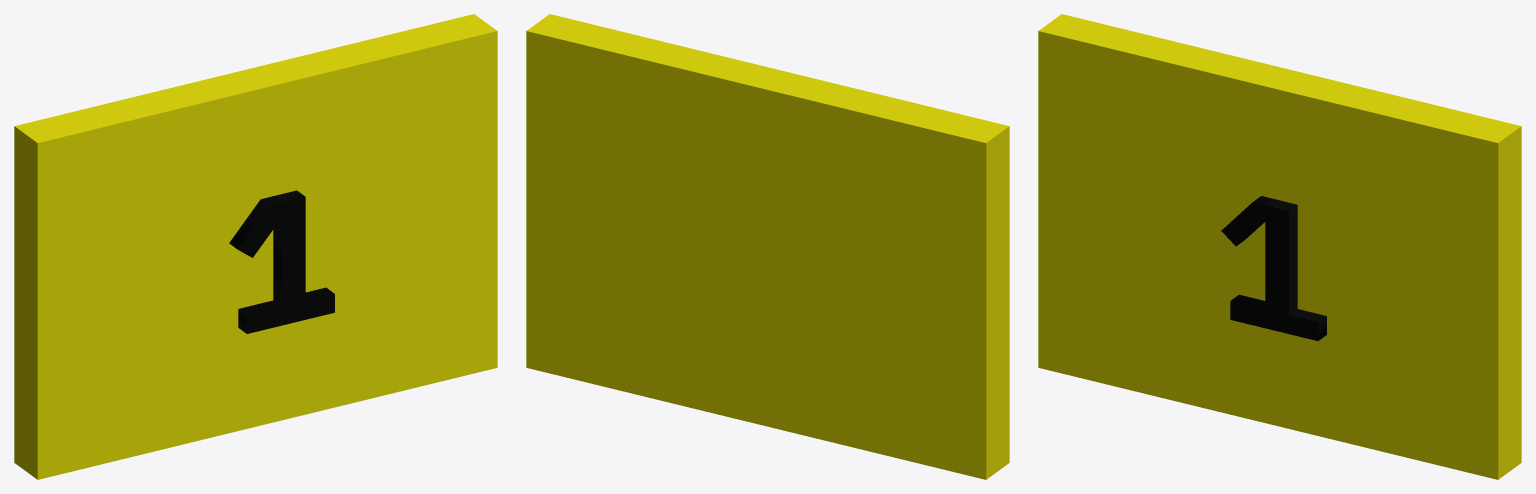
Rendered from tagyell1_2.glb.
3 views of the same model, side by side, from view 1: azimuth 30°, elevation 25°; view 2: azimuth 150°, elevation 25°; view 3: azimuth 330°, elevation 25° (orthographic).
Parts seen in each view (by area): view 1: Plane.022, Text.022; view 2: Plane.022; view 3: Plane.022, Text.022.
Boxes of the visible parts, bbox=[...] form: Plane.022: bbox=[14, 14, 497, 479]; Text.022: bbox=[229, 190, 334, 333]; Plane.022: bbox=[526, 14, 1009, 479]; Plane.022: bbox=[1038, 14, 1521, 479]; Text.022: bbox=[1221, 196, 1326, 340].
Bounding box in the file's own units: 0.2 × 0.14 × 0.0241.
